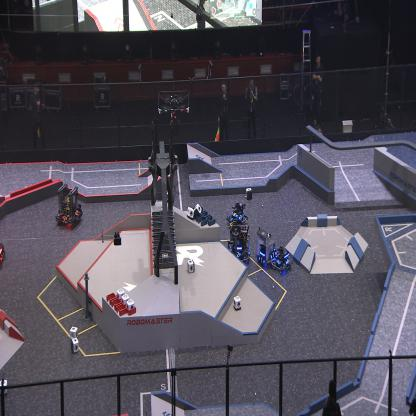car: (56, 182, 82, 228), (228, 221, 251, 266), (255, 228, 277, 269), (270, 243, 294, 275), (226, 200, 249, 230), (0, 241, 5, 270)
